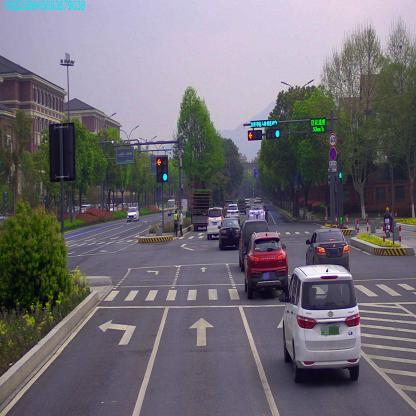traffic-light: (250, 119, 278, 128), (247, 130, 262, 142), (266, 130, 280, 141)
